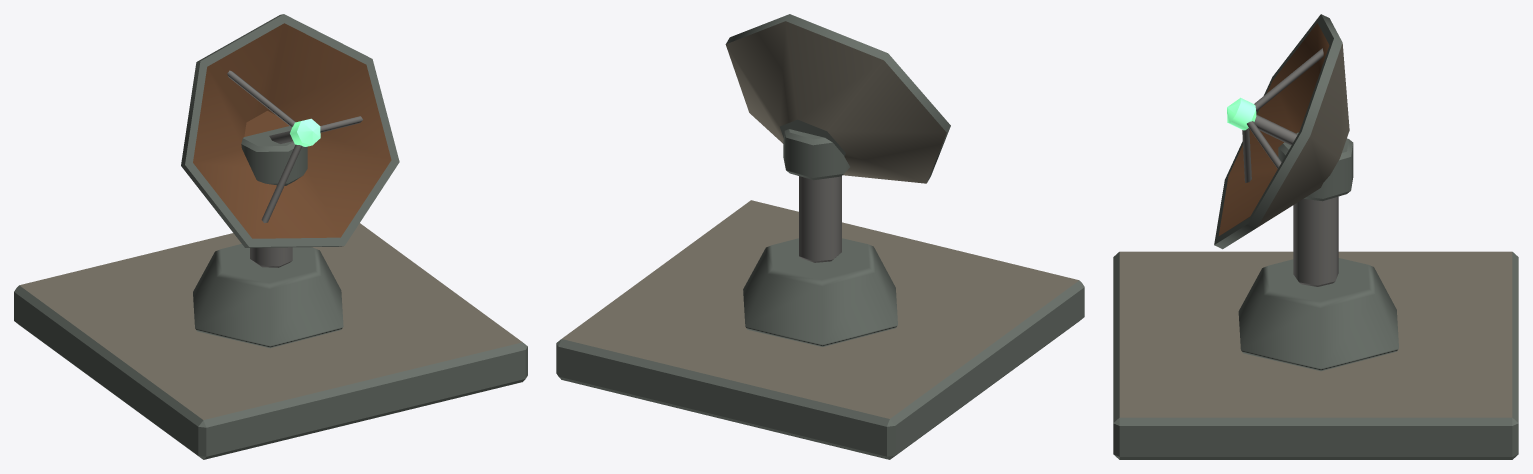
Rendered from R4X_Radar_LOD1.fbx.
The picture shows the model from 3 angles, left to right: view 1: azimuth 30°, elevation 25°; view 2: azimuth 150°, elevation 25°; view 3: azimuth 270°, elevation 25°; orthographic projection. The views are drawn at different scales.
Parts seen in each view (by area): view 1: R4X_Radar_LOD1; view 2: R4X_Radar_LOD1; view 3: R4X_Radar_LOD1.
Boxes of the visible parts, left/top/right/bottom form: R4X_Radar_LOD1: left=14, top=14, right=527, bottom=459; R4X_Radar_LOD1: left=556, top=14, right=1084, bottom=459; R4X_Radar_LOD1: left=1113, top=14, right=1518, bottom=459.
Size of the model in its own units: 0.52 by 0.4947 by 0.52.
